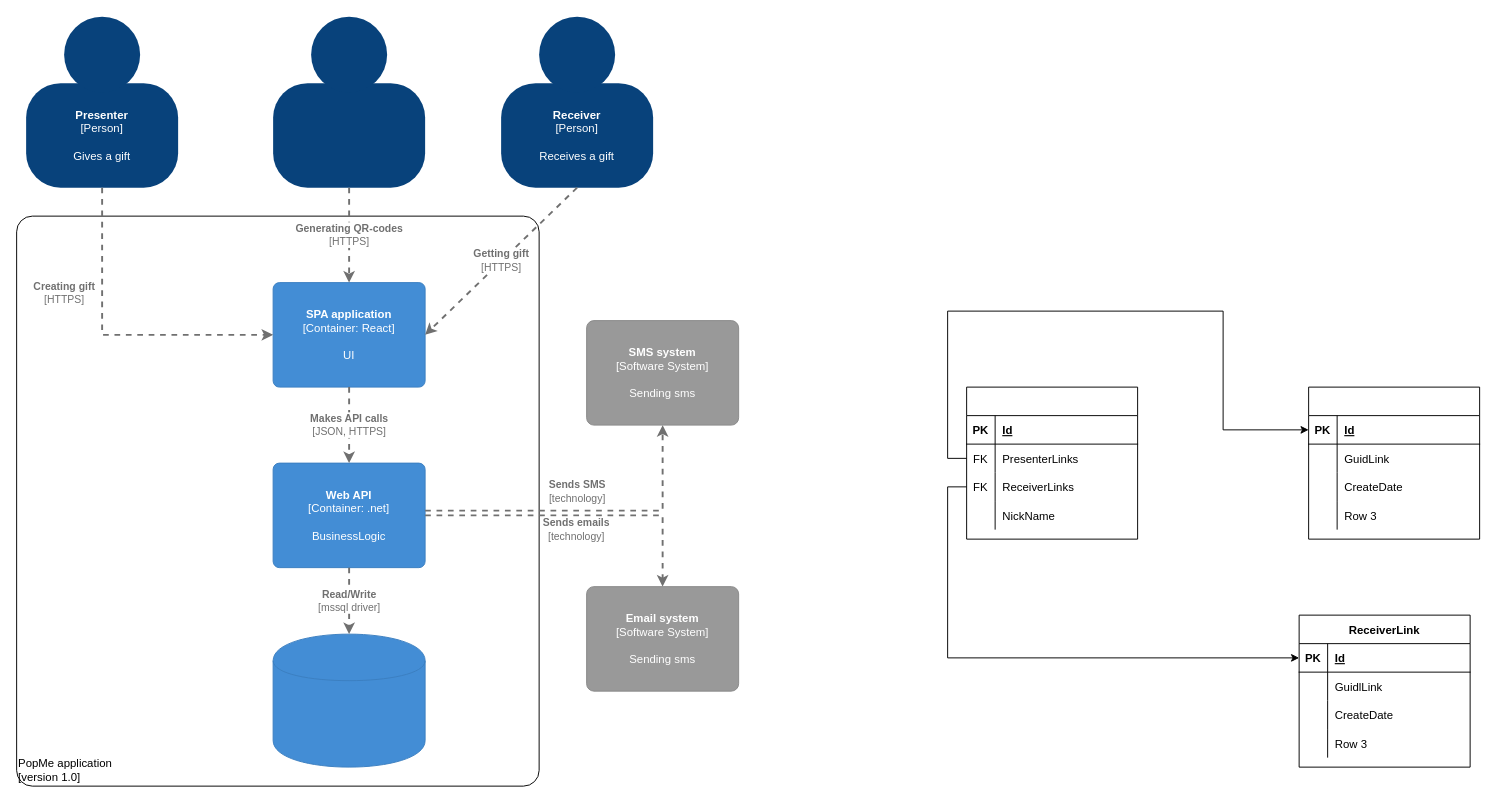
Some shapes in this 1496 by 803 pixel diagram are drawn without their labels. Each missing label, with the box of its shape:
Admin: (966, 386, 1138, 539)
Admin [Person] Managment: (272, 82, 425, 188)
Database [Container: MSSQL] Data: (272, 633, 425, 767)
PresenterLink: (1308, 386, 1480, 539)
